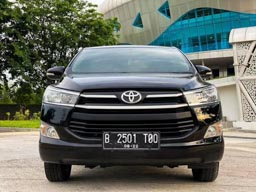plat: (103, 133, 159, 144)
